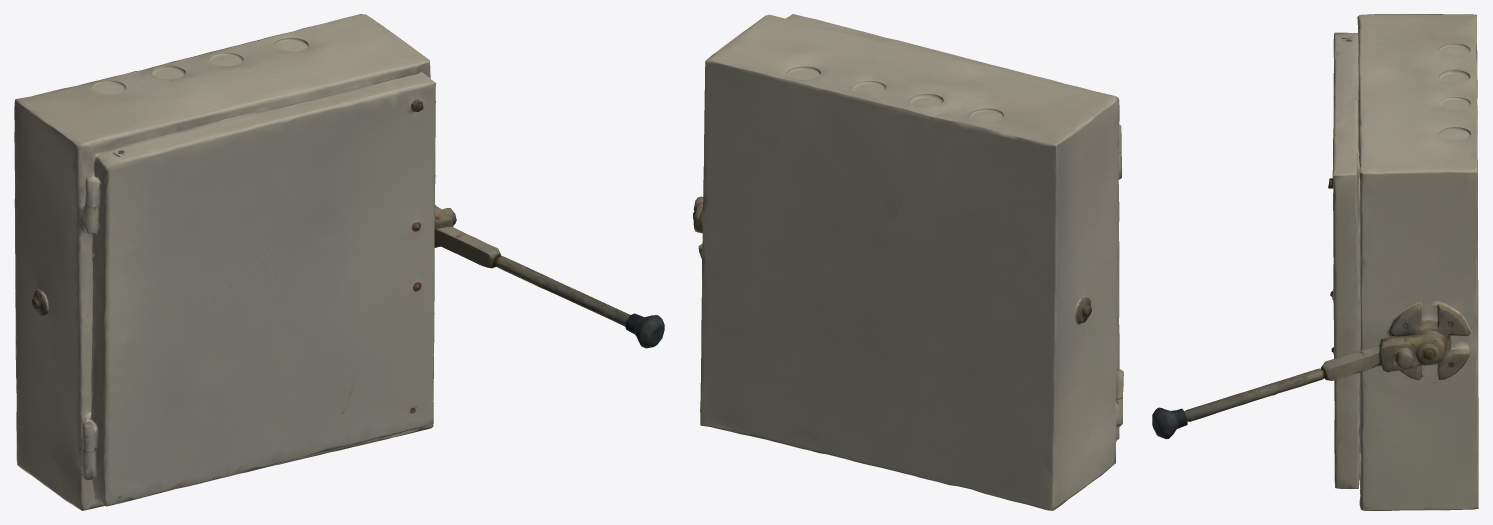
The model's file is Electrical_Box_ujyqaelga_High.gltf.
3 renders of one model, left to right at view 1: azimuth 30°, elevation 25°; view 2: azimuth 150°, elevation 25°; view 3: azimuth 270°, elevation 25°, orthographic. The views are drawn at different scales.
Visible parts, largest first — view 1: ujyqaelga_LOD0_TIER1_000; view 2: ujyqaelga_LOD0_TIER1_000; view 3: ujyqaelga_LOD0_TIER1_000.
Part boxes in pixels (x1,y1,x2,y2): ujyqaelga_LOD0_TIER1_000: [14, 14, 664, 510]; ujyqaelga_LOD0_TIER1_000: [693, 14, 1123, 510]; ujyqaelga_LOD0_TIER1_000: [1152, 14, 1478, 510].
Bounding box in the file's own units: 0.6402 × 0.471 × 0.4073.
1 material, 1 textured.
